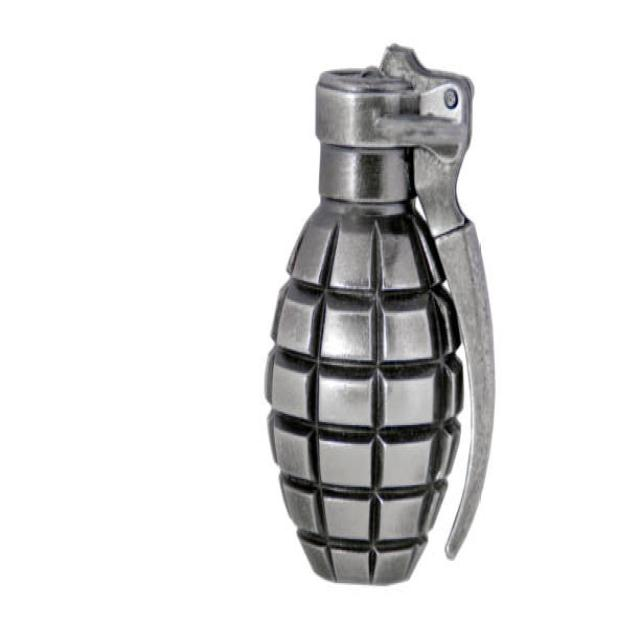grenade: (257, 36, 505, 595)
